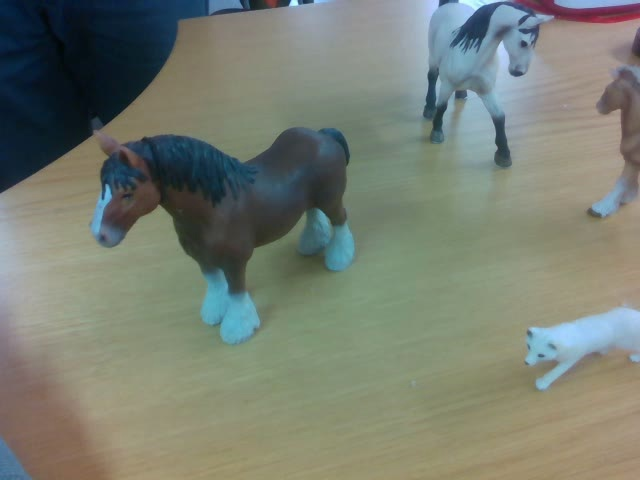toy: (91, 126, 357, 346), (421, 1, 556, 168)
